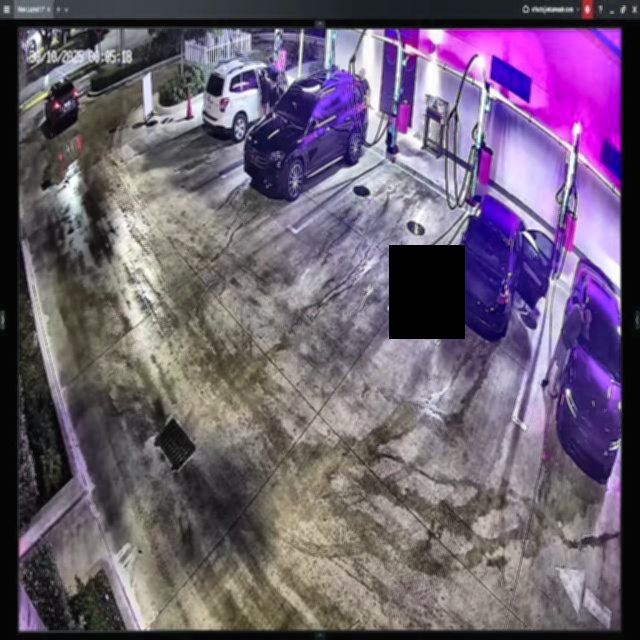Car: (243, 66, 368, 196), (447, 191, 553, 339)
